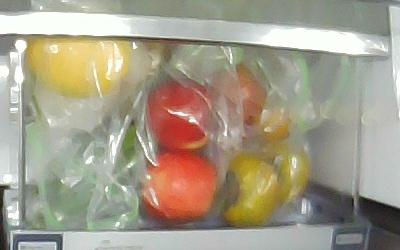apple_vinyl: (138, 151, 216, 221), (146, 78, 217, 151)
grapefruit_vinyl: (25, 40, 136, 99)
persimmon_vinyl: (220, 154, 281, 223), (261, 141, 311, 203)
prune_vinyl: (211, 66, 267, 123), (248, 103, 290, 140)
